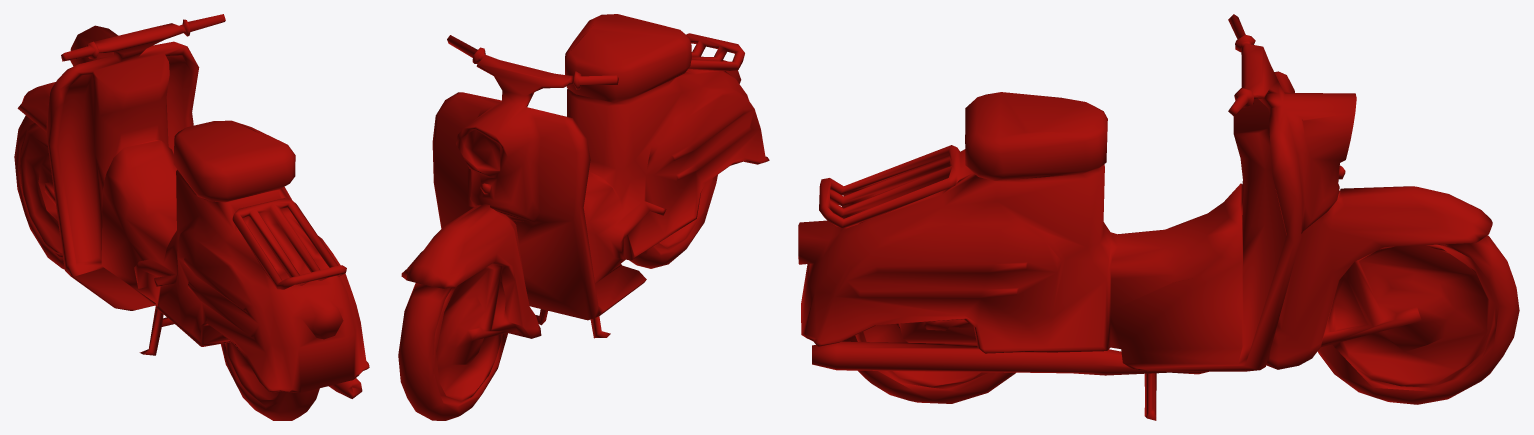
File: schwalbe.obj
3 views of the same model, side by side, from view 1: azimuth 30°, elevation 25°; view 2: azimuth 150°, elevation 25°; view 3: azimuth 270°, elevation 25° (orthographic). The views are drawn at different scales.
Visible parts, largest first — view 1: schwalbe_lowpoly-V2; view 2: schwalbe_lowpoly-V2; view 3: schwalbe_lowpoly-V2.
Part boxes in pixels (x1,y1,x2,y2): schwalbe_lowpoly-V2: (14, 14, 369, 420); schwalbe_lowpoly-V2: (398, 14, 769, 420); schwalbe_lowpoly-V2: (798, 14, 1519, 420).
Bounding box in the file's own units: 0.7128 × 1.22 × 2.32.
